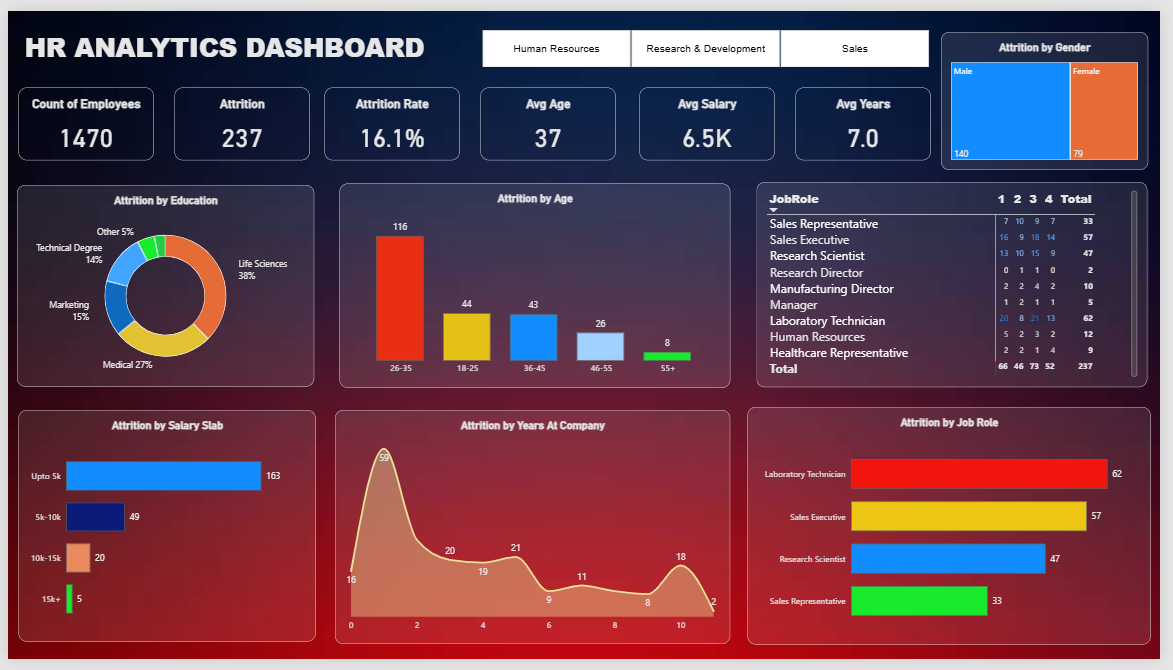

The dashboard page shown, as its layout file describes it:
{"tool":"powerbi","page":{"name":"Page 1","canvas":[1920,1080],"ordinal":0},"visuals":[{"type":"card","title":"Count of Employees","fields":{"Values":["CountNonNull(HR_Analytics.EmpID)"]},"box":[16.3,126.4,225,121.6],"z":0},{"type":"card","title":"Attrition","fields":{"Values":["Sum(HR_Analytics.AttritionCount)"]},"box":[276.8,127.9,225,121.6],"z":1000},{"type":"card","title":"Attrition Rate","fields":{"Values":["HR_Analytics.AttritionRate"]},"box":[528.1,127.9,225,121.6],"z":2000},{"type":"card","title":"Avg Age","fields":{"Values":["Avg(HR_Analytics.Age)"]},"box":[786.3,127.9,225,121.6],"z":3000},{"type":"card","title":"Avg Salary","fields":{"Values":["Avg(HR_Analytics.MonthlyIncome)"]},"box":[1051.5,127.9,225,121.6],"z":4000},{"type":"card","title":"Avg Years","fields":{"Values":["Avg(HR_Analytics.YearsAtCompany)"]},"box":[1312.1,127.9,225,121.6],"z":5000},{"type":"donutChart","title":"Attrition by Education","fields":{"Category":["HR_Analytics.EducationField"],"Y":["Sum(HR_Analytics.AttritionCount)"]},"box":[14,290.8,495.5,335.8],"z":6000},{"type":"columnChart","title":"Attrition by Age","fields":{"Category":["HR_Analytics.AgeGroup"],"Y":["Sum(HR_Analytics.AttritionCount)"]},"box":[551.3,288.5,651.4,340.4],"z":7000},{"type":"pivotTable","fields":{"Columns":["HR_Analytics.JobSatisfaction"],"Rows":["HR_Analytics.JobRole"],"Values":["Sum(HR_Analytics.AttritionCount)"]},"box":[1246.9,286.1,651.4,342],"z":8000},{"type":"barChart","title":"Attrition by Salary Slab","fields":{"Category":["HR_Analytics.SalarySlab"],"Y":["Sum(HR_Analytics.AttritionCount)"]},"box":[18.6,665.3,495.5,386.2],"z":9000},{"type":"barChart","title":"Attrition by Job Role","fields":{"Category":["HR_Analytics.JobRole"],"Y":["Sum(HR_Analytics.AttritionCount)"]},"box":[1233,659.9,672.3,396.3],"z":10000},{"type":"areaChart","title":"Attrition by Years At Company","fields":{"Category":["HR_Analytics.YearsAtCompany"],"Y":["Sum(HR_Analytics.AttritionCount)"]},"box":[544.4,663.8,658.4,390],"z":11000},{"type":"treemap","title":"Attrition by Gender","fields":{"Group":["HR_Analytics.Gender"],"Values":["Sum(HR_Analytics.AttritionCount)"]},"box":[1554,34.9,345,230],"z":12000},{"type":"slicer","fields":{"Values":["HR_Analytics.Department"]},"box":[770,30.2,784,65.1],"z":13000},{"type":"textbox","box":[27.9,30.2,725.8,81.4],"z":14000}]}

Visuals, with their boxes in screenshot pixels (x1, y1, x2, y2), scaled from the page's 1920x1080 canvas onto the 1173x670 screenshot:
"Count of Employees" card: <bbox>10, 78, 147, 154</bbox>
"Attrition" card: <bbox>169, 79, 307, 155</bbox>
"Attrition Rate" card: <bbox>323, 79, 460, 155</bbox>
"Avg Age" card: <bbox>480, 79, 618, 155</bbox>
"Avg Salary" card: <bbox>642, 79, 780, 155</bbox>
"Avg Years" card: <bbox>802, 79, 939, 155</bbox>
"Attrition by Education" donutChart: <bbox>9, 180, 311, 389</bbox>
"Attrition by Age" columnChart: <bbox>337, 179, 735, 390</bbox>
pivotTable - HR_Analytics.JobSatisfaction x HR_Analytics.JobRole: <bbox>762, 177, 1160, 390</bbox>
"Attrition by Salary Slab" barChart: <bbox>11, 413, 314, 652</bbox>
"Attrition by Job Role" barChart: <bbox>753, 409, 1164, 655</bbox>
"Attrition by Years At Company" areaChart: <bbox>333, 412, 735, 654</bbox>
"Attrition by Gender" treemap: <bbox>949, 22, 1160, 164</bbox>
slicer - HR_Analytics.Department: <bbox>470, 19, 949, 59</bbox>
textbox: <bbox>17, 19, 460, 69</bbox>
